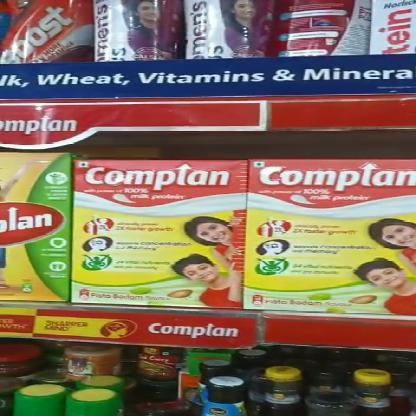Complan Pista Badam: (74, 158, 244, 308), (244, 162, 414, 305)
